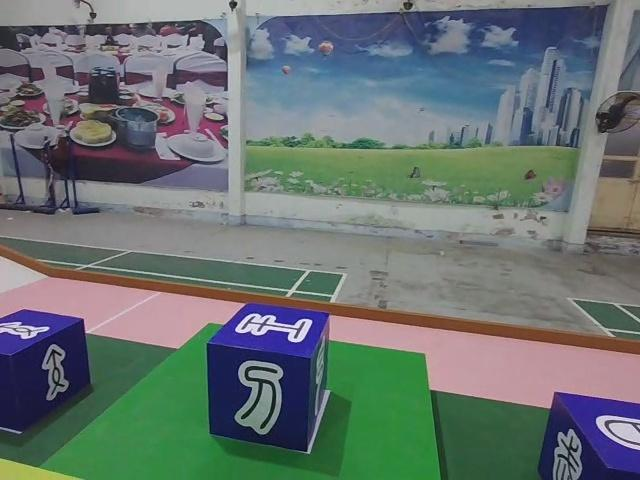R2 Fake Blue: (208, 302, 333, 456), (533, 392, 638, 480)
R2 Real Blue: (2, 311, 94, 439)
